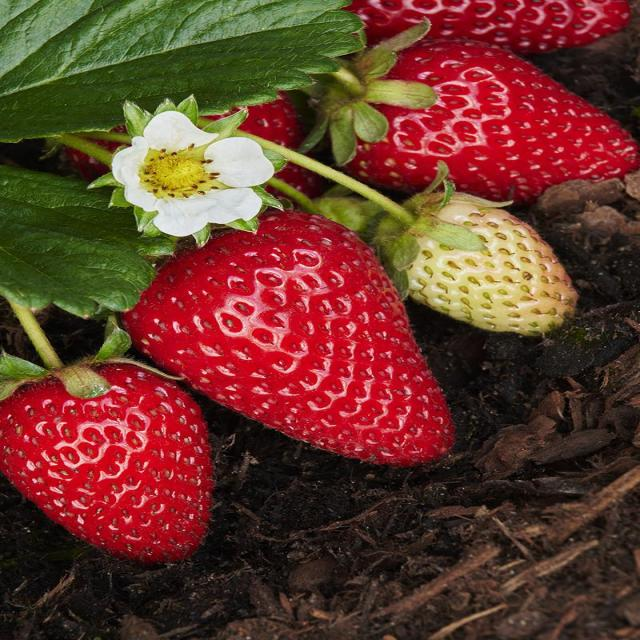strawberry: (0, 286, 249, 585)
